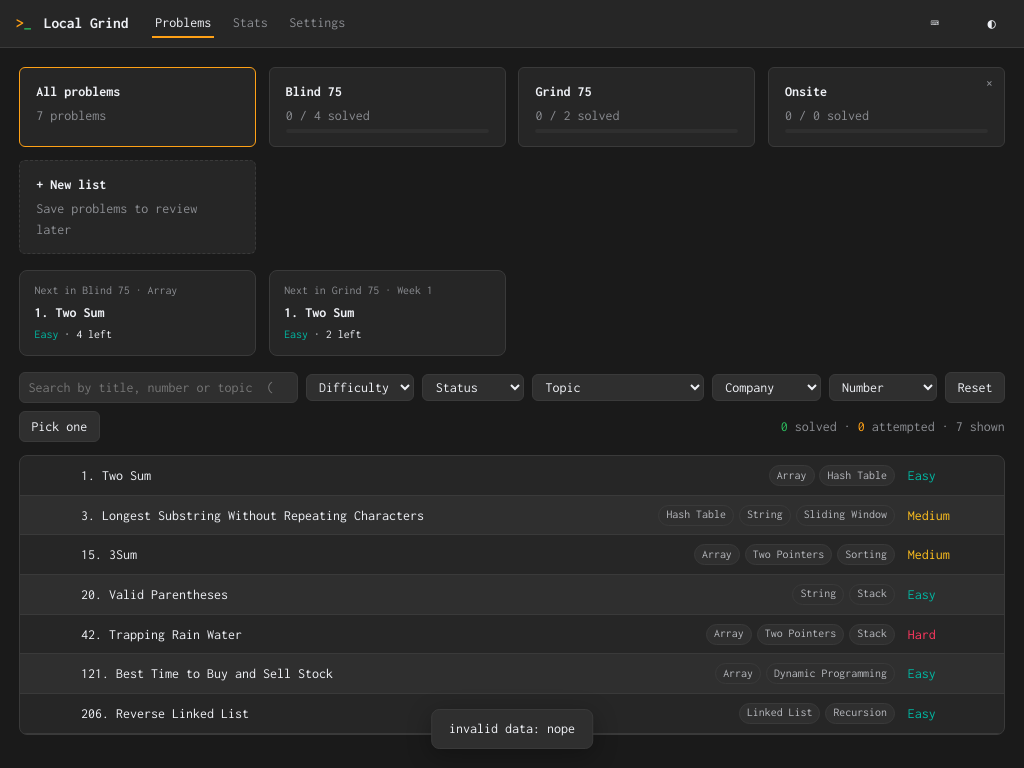
Test case: App › reports a failed list deletion and keeps the list
This screenshot has width=1024, height=768.
Expected: the link with aria-label "Local Grind home" is shown, [16, 12, 128, 35]
What coordinates should you click on to do the following:
click the button named "Delete list Onsite"
I would click on:
 (989, 84)
Its box is [978, 72, 1000, 95].
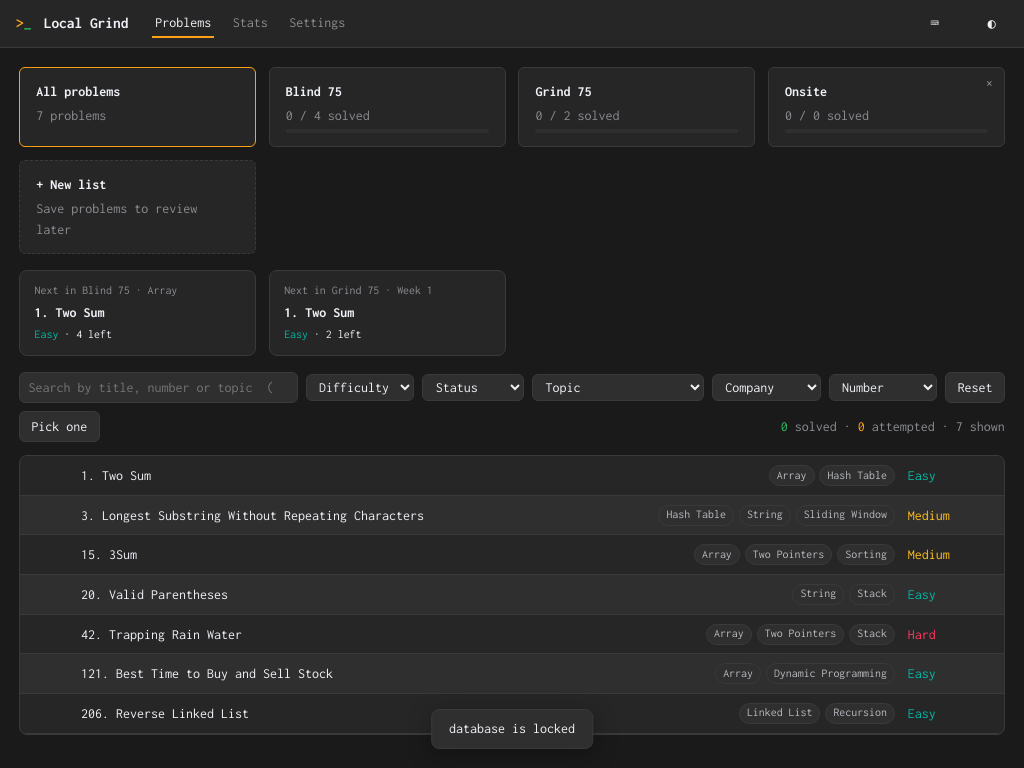
Expected: the message reads "database is locked", [449, 721, 575, 736]
